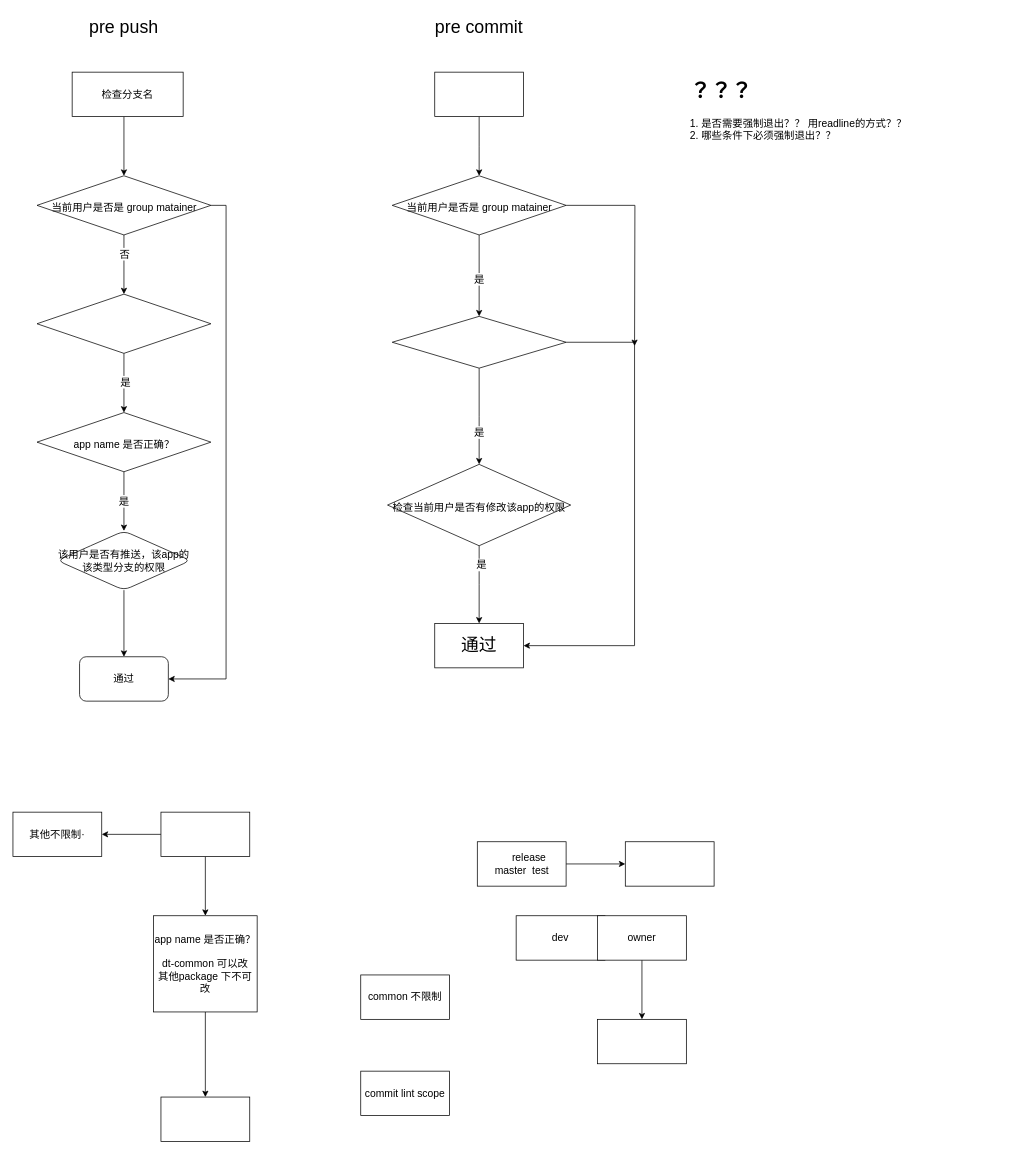
Some shapes in this 1025 by 1154 pixel diagram are drawn without their labels. The box of each missing label's shape, as (x1, y1, x2, y2) in pixels:
feat fix hotfix: (160, 811, 250, 857)
matainer: (625, 841, 714, 886)
分支名中是否声明了所属 app: (391, 316, 566, 368)
分支类型是否正确？: (36, 293, 211, 353)
如果推送了别的产品 提示: (597, 1019, 686, 1064)
是否只改了此产品: (160, 1096, 250, 1141)
检查暂存区中修改的文件: (434, 71, 524, 117)
